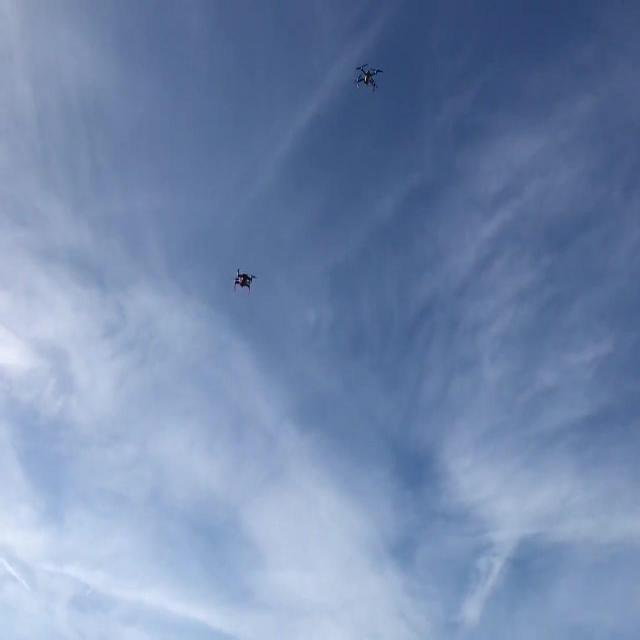UAV: (354, 64, 384, 92), (230, 268, 257, 296)
